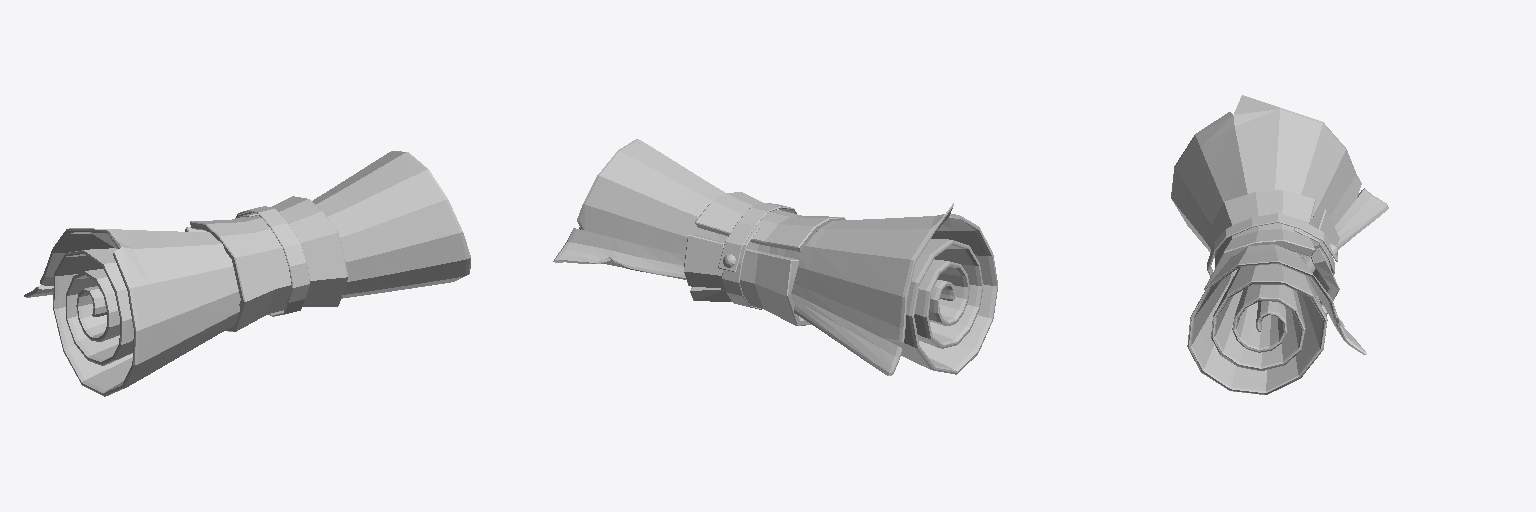
Rendered from scroll.obj.
3 views of the same model, side by side, from view 1: azimuth 30°, elevation 25°; view 2: azimuth 150°, elevation 25°; view 3: azimuth 270°, elevation 25° (orthographic).
Parts seen in each view (by area): view 1: Scroll, LeatherWrap, LeatherStrap; view 2: Scroll, LeatherWrap, LeatherStrap; view 3: Scroll, LeatherWrap, LeatherStrap.
Part boxes in pixels (left/top/right/bottom): Scroll: left=24, top=151, right=470, bottom=396; LeatherWrap: left=185, top=196, right=347, bottom=331; LeatherStrap: left=235, top=206, right=309, bottom=316; Scroll: left=553, top=139, right=997, bottom=375; LeatherWrap: left=684, top=192, right=845, bottom=325; LeatherStrap: left=718, top=203, right=796, bottom=309; Scroll: left=1171, top=95, right=1388, bottom=394; LeatherWrap: left=1204, top=190, right=1339, bottom=315; LeatherStrap: left=1207, top=213, right=1337, bottom=276.
Bounding box in the file's own units: 0.8641 × 0.3627 × 0.4489.